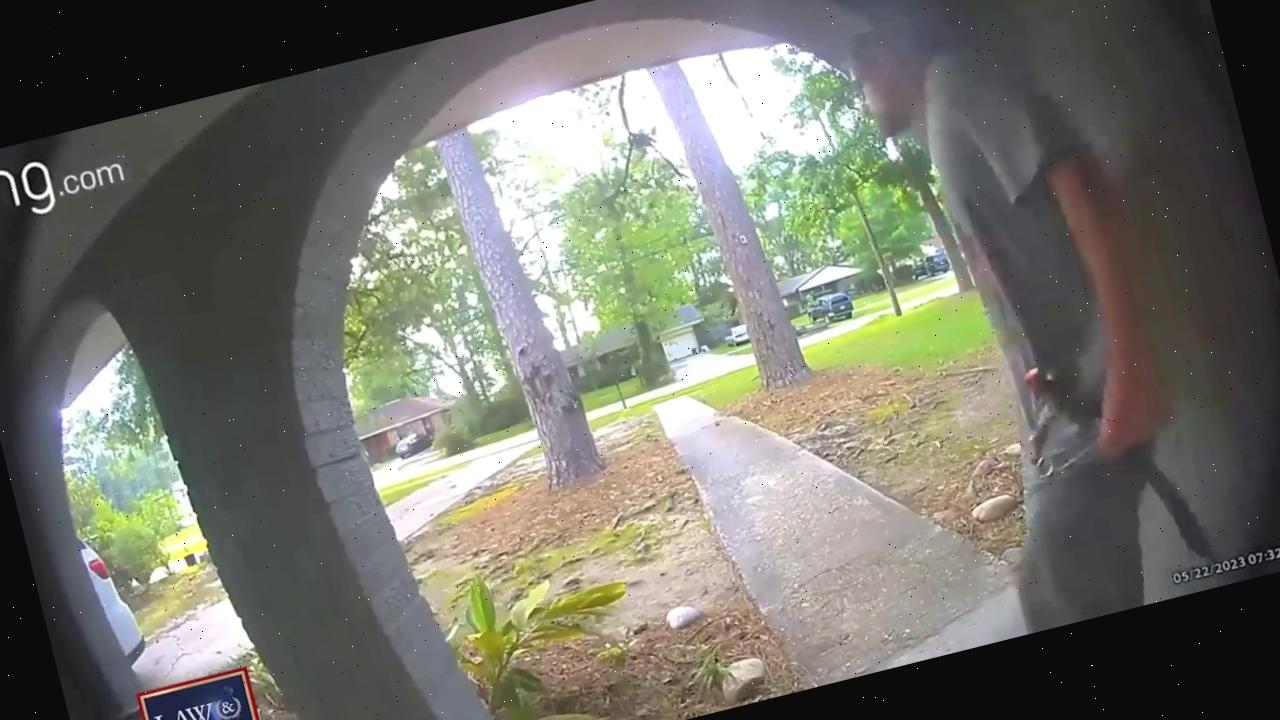suspicion: (806, 0, 1227, 652)
